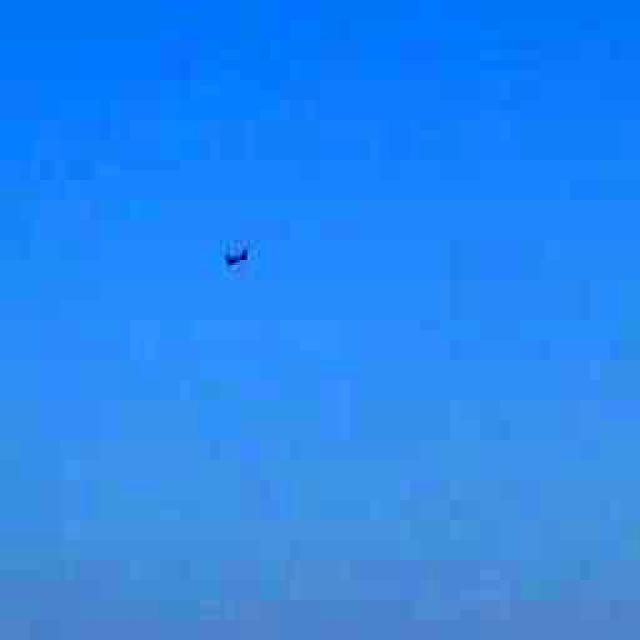bird: (205, 226, 270, 284)
